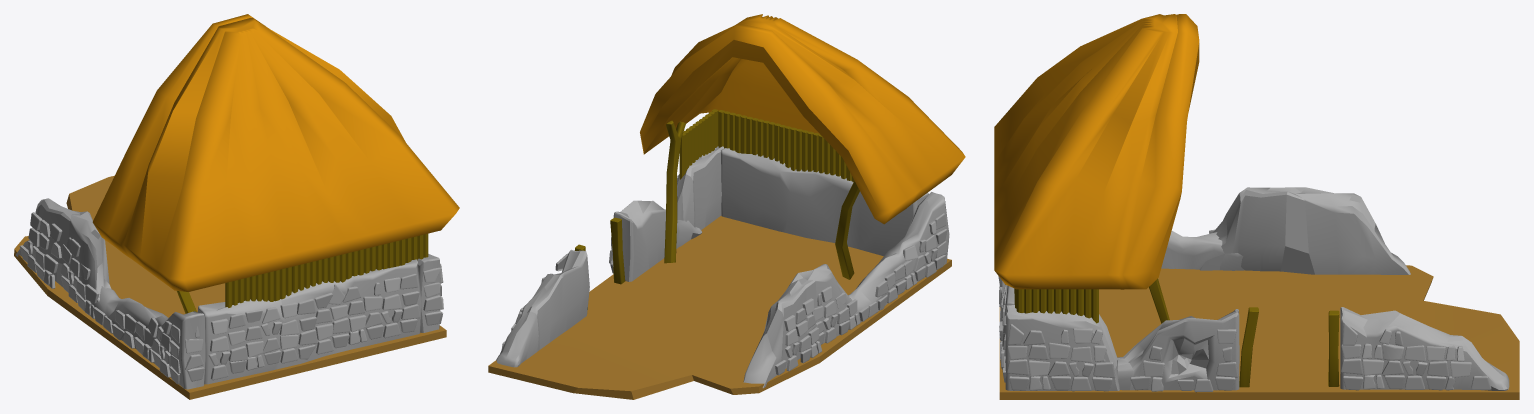
Rendered from MSH_Static_House2.fbx.
3 views of the same model, side by side, from view 1: azimuth 30°, elevation 25°; view 2: azimuth 150°, elevation 25°; view 3: azimuth 270°, elevation 25° (orthographic). The views are drawn at different scales.
Parts seen in each view (by area): view 1: pCube28, pCube29, pCube14, pCube19, pCube16, pCube27, pCube26, pCube25, pCube11; view 2: pCube29, pCube28, pCube14, pCube9, pCube19, pCube10, pCube16, pCube11, pCube25, pCube26, Stand_stick3, pCube24 (+2 smaller); view 3: pCube28, pCube29, pCube19, pCube10, pCube9, pCube11, pCube24, pCube16, Stand_stick5, Stand_stick6.
Part boxes in pixels (<box>): pCube28: <box>92,14,459,291</box>; pCube29: <box>14,175,446,399</box>; pCube14: <box>197,259,421,384</box>; pCube19: <box>15,198,111,302</box>; pCube16: <box>90,286,205,389</box>; pCube27: <box>225,267,291,307</box>; pCube26: <box>292,251,357,293</box>; pCube25: <box>358,234,423,275</box>; pCube11: <box>417,254,440,332</box>; pCube29: <box>488,216,951,399</box>; pCube28: <box>640,14,965,224</box>; pCube14: <box>721,148,928,256</box>; pCube9: <box>496,249,589,367</box>; pCube19: <box>743,264,852,388</box>; pCube10: <box>611,200,702,281</box>; pCube16: <box>848,192,949,329</box>; pCube11: <box>677,146,723,229</box>; pCube25: <box>718,110,780,161</box>; pCube26: <box>779,125,840,176</box>; Stand_stick3: <box>664,120,685,263</box>; pCube24: <box>679,109,718,179</box>; pCube28: <box>994,14,1199,289</box>; pCube29: <box>999,265,1519,399</box>; pCube19: <box>1199,187,1410,274</box>; pCube10: <box>1117,309,1239,390</box>; pCube9: <box>1340,307,1509,390</box>; pCube11: <box>1005,305,1119,390</box>; pCube24: <box>1016,289,1098,323</box>; pCube16: <box>1161,231,1244,270</box>; Stand_stick5: <box>1239,307,1258,387</box>; Stand_stick6: <box>1328,310,1339,386</box>.
Bounding box in the file's own units: 32.99 × 31.07 × 47.95.
